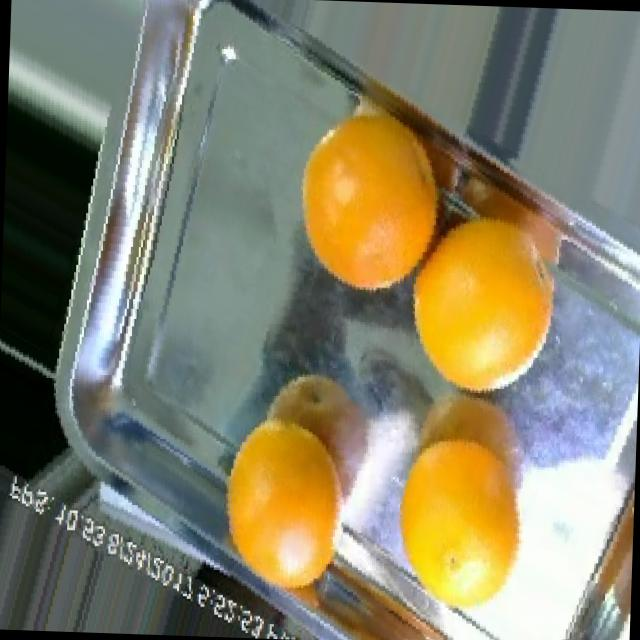Fruit: (276, 95, 472, 318), (373, 404, 553, 638), (200, 348, 399, 549)
